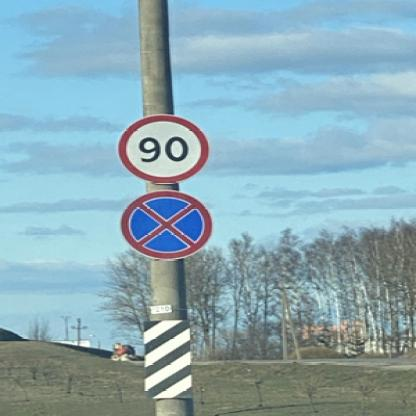Speed Limit 90: (119, 114, 207, 183)
